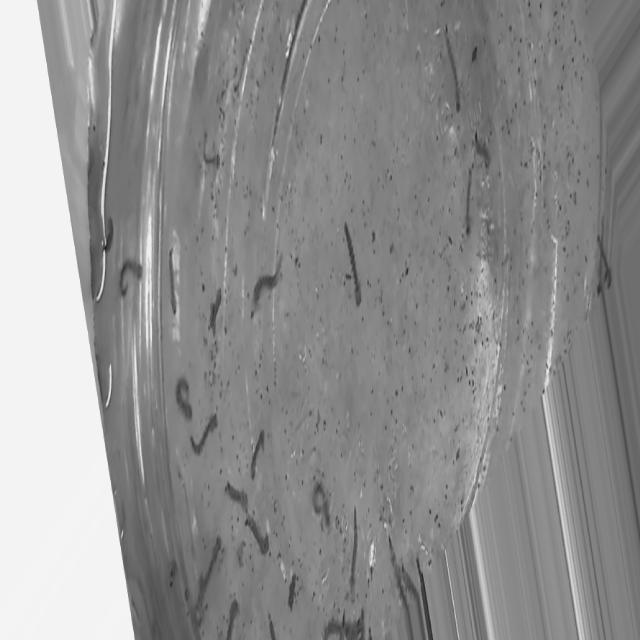larvas: (193, 538, 220, 610), (344, 225, 364, 303), (446, 28, 461, 113), (253, 256, 283, 297), (243, 516, 270, 554), (190, 415, 217, 452), (323, 616, 364, 640), (310, 481, 330, 527), (174, 380, 194, 422), (166, 250, 178, 314), (597, 239, 613, 286), (388, 542, 403, 592), (349, 508, 358, 588), (465, 166, 474, 238), (120, 262, 142, 288), (249, 432, 262, 476), (226, 600, 240, 639), (209, 289, 223, 328), (202, 142, 221, 170), (475, 134, 492, 164), (401, 564, 421, 587), (229, 484, 248, 508), (265, 611, 277, 639), (104, 221, 116, 248), (340, 612, 347, 640)
